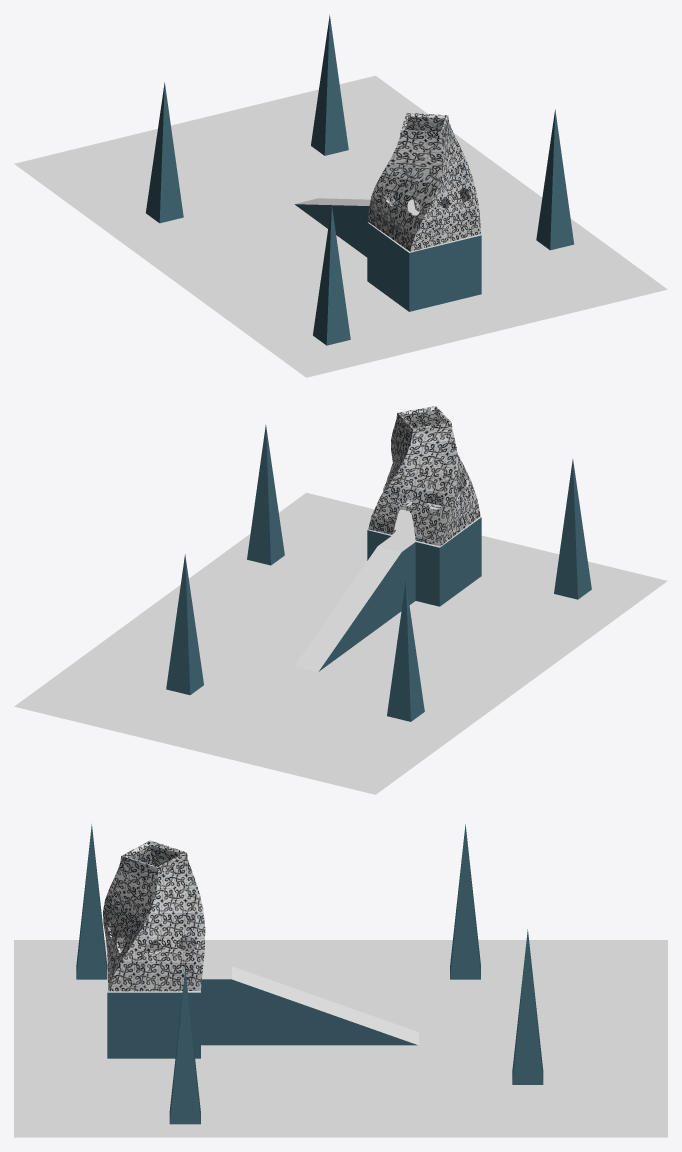
The picture shows the model from 3 angles, top to bottom: view 1: azimuth 30°, elevation 25°; view 2: azimuth 150°, elevation 25°; view 3: azimuth 270°, elevation 25°; orthographic projection. The views are drawn at different scales.
Parts seen in each view (by area): view 1: nav, ground, house; view 2: nav, ground, house; view 3: nav, ground, house.
Boxes of the visible parts, x1=… form: nav: x1=14, y1=75, x2=667, y2=377; ground: x1=146, y1=14, x2=574, y2=345; house: x1=368, y1=113, x2=480, y2=251; nav: x1=14, y1=492, x2=667, y2=794; ground: x1=166, y1=425, x2=591, y2=721; house: x1=368, y1=406, x2=480, y2=546; nav: x1=14, y1=940, x2=667, y2=1137; ground: x1=76, y1=824, x2=543, y2=1124; house: x1=103, y1=840, x2=205, y2=991.
Size of the model in its own units: 14.29 by 6.23 by 20.
Materials: 4 (1 with a texture image).
